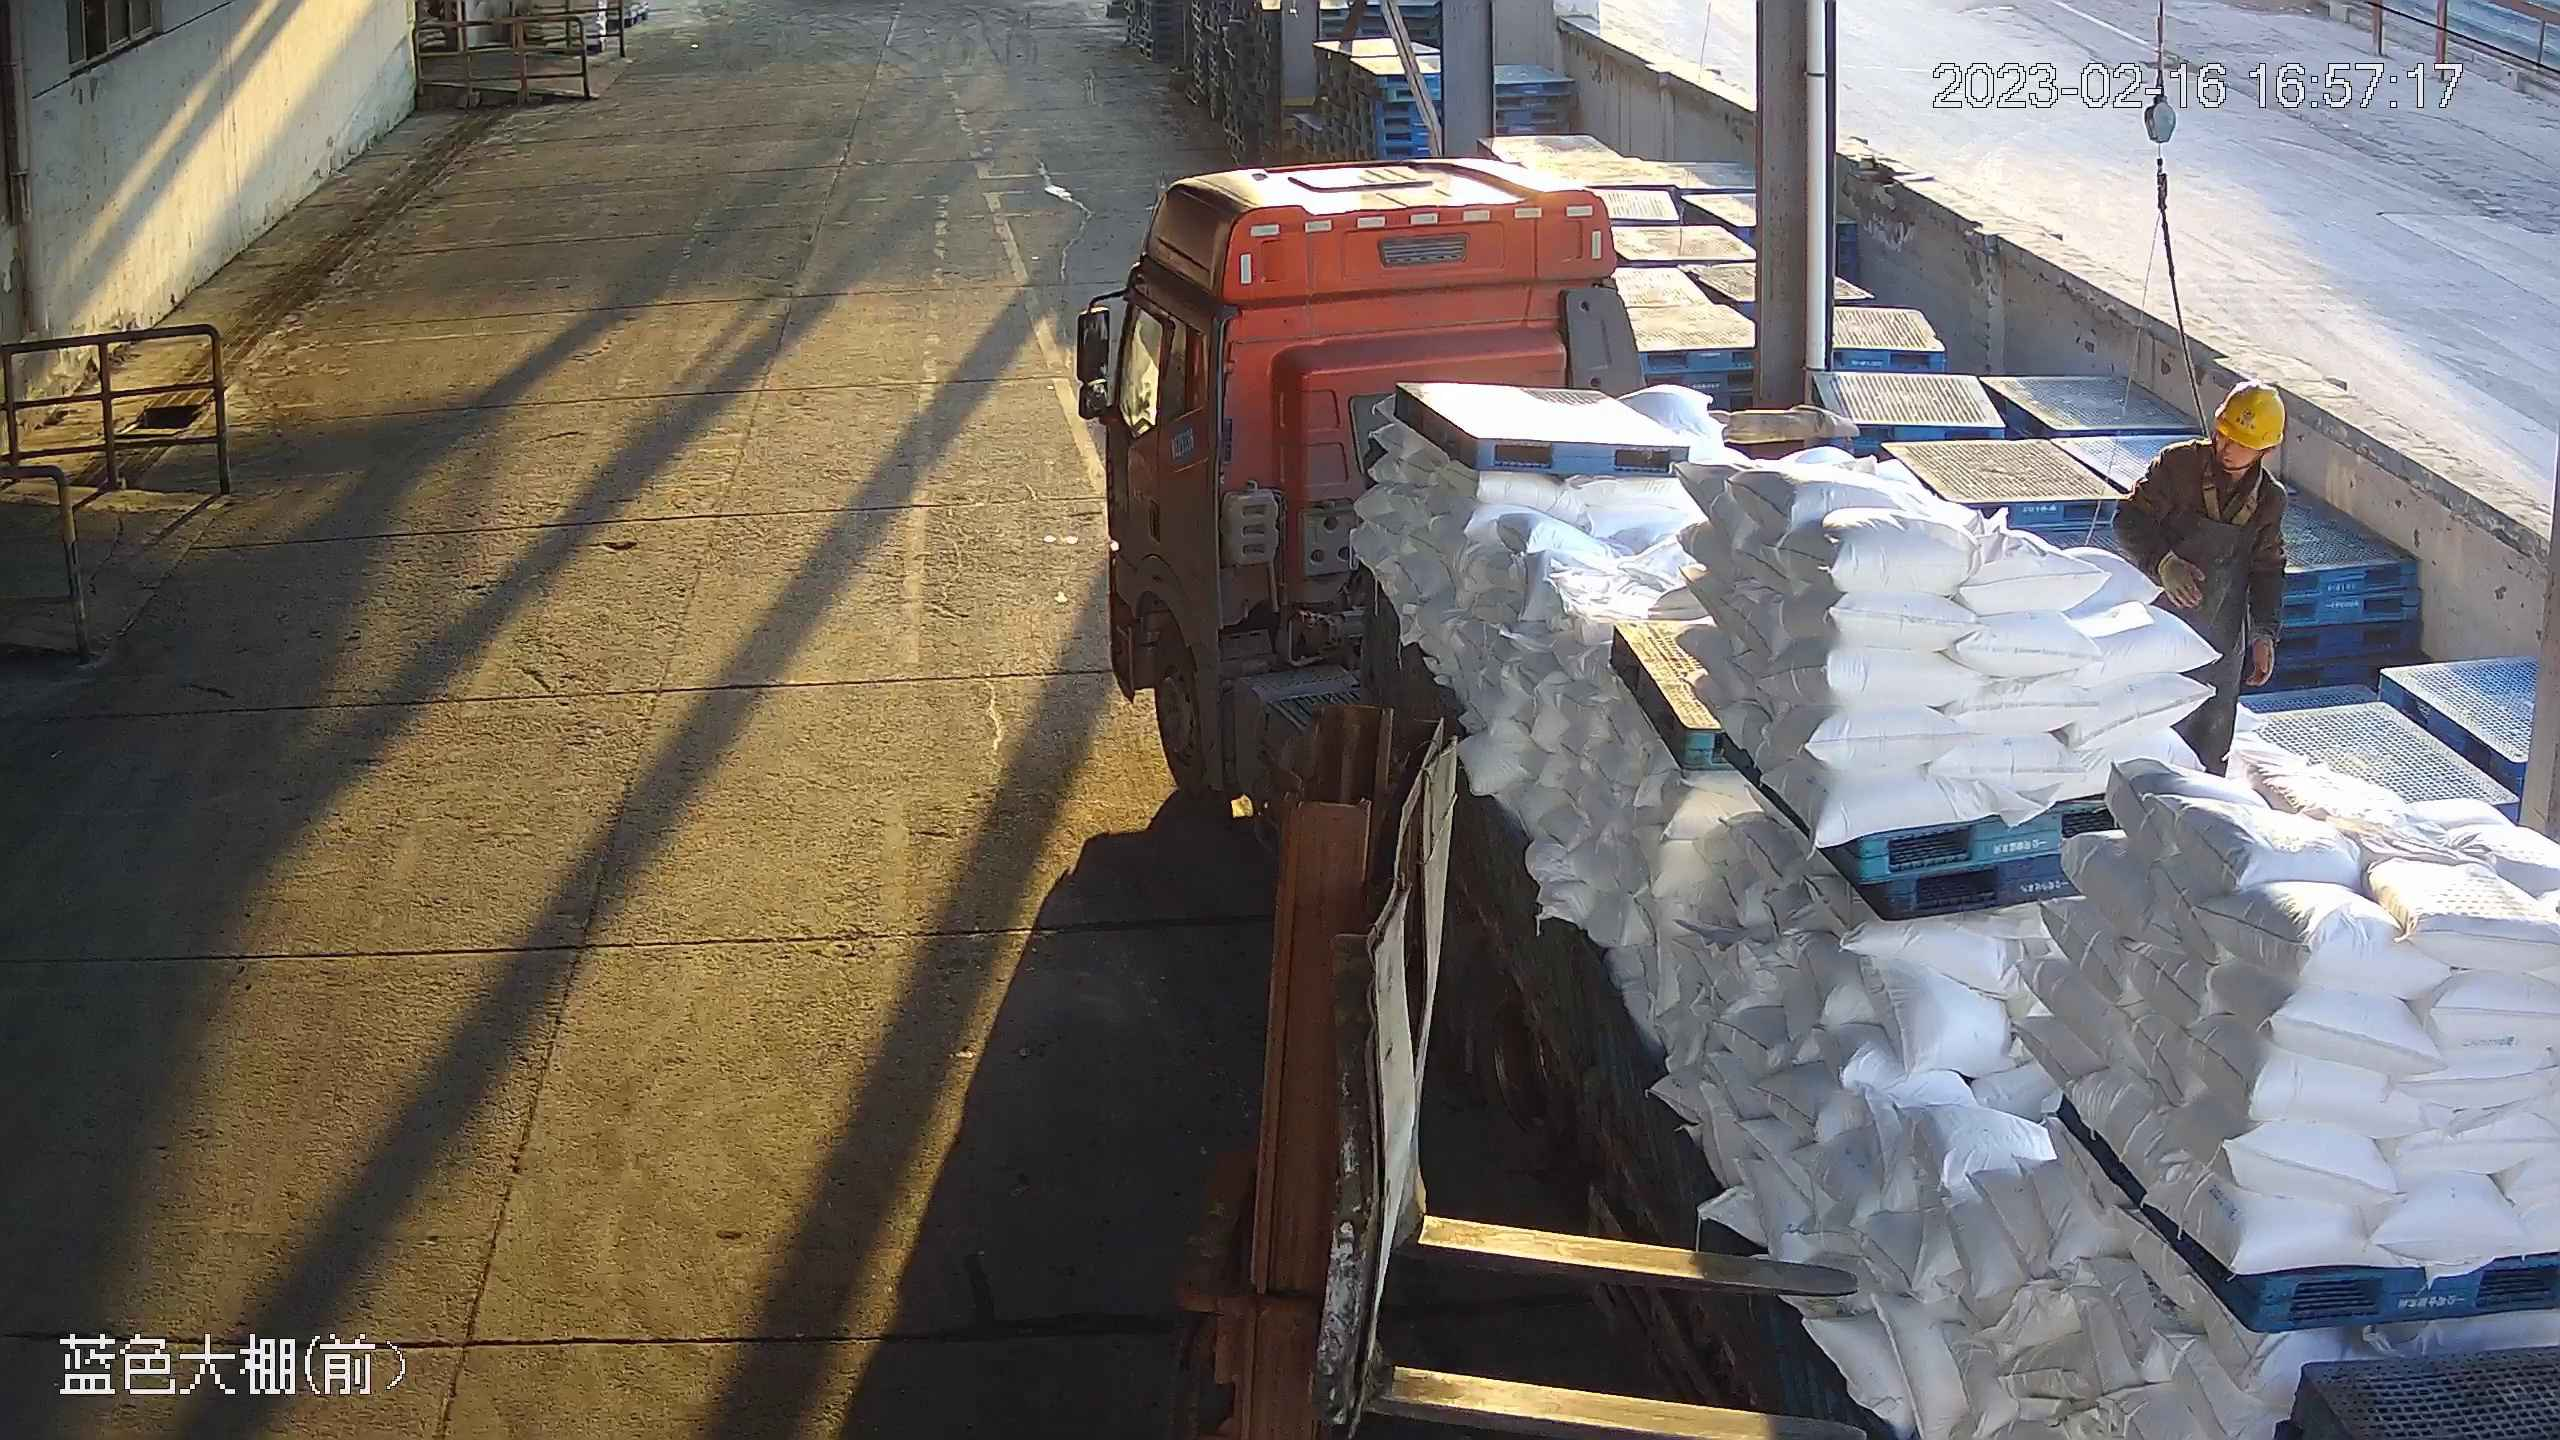belt: (2198, 453, 2268, 529)
head: (2138, 373, 2285, 541)
helmet: (2205, 377, 2292, 454)
people: (2136, 379, 2296, 786)
truck: (1094, 156, 2560, 1440)
